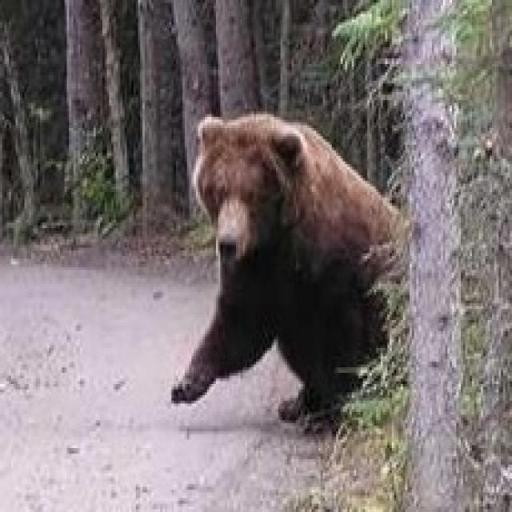Bear: (168, 108, 410, 432)
